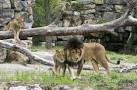lion: (63, 39, 121, 77)
